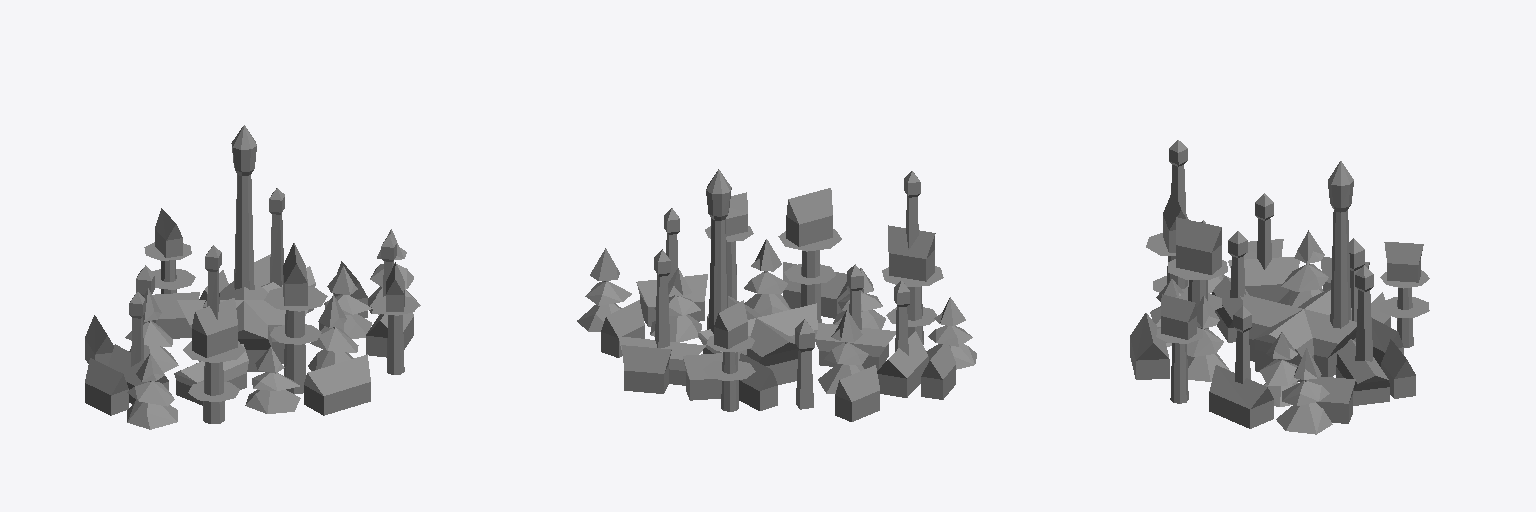
File: elvecity.obj
The picture shows the model from 3 angles: view 1: azimuth 30°, elevation 25°; view 2: azimuth 150°, elevation 25°; view 3: azimuth 270°, elevation 25°; orthographic projection.
Visible parts, largest first — view 1: elf_flet_house, trees01, elf_house_big, elf_house_ground01, elf_house_ground02, trees04, tower, elf_house_ground, tower_simple, tower_simple02, tower_simple01; view 2: elf_flet_house, elf_house_big, trees01, elf_house_ground02, elf_house_ground, elf_house_ground01, trees04, tower, tower_simple02, tower_simple01, tower_simple; view 3: elf_flet_house, elf_house_big, elf_house_ground01, trees01, tower, trees04, elf_house_ground, tower_simple01, tower_simple, elf_house_ground02, tower_simple02.
Part boxes in pixels (x1,y1,x2,y2): elf_flet_house: (144, 208, 419, 423); trees01: (125, 266, 372, 413); elf_house_big: (174, 266, 315, 405); elf_house_ground01: (108, 312, 413, 415); elf_house_ground02: (85, 254, 270, 415); trees04: (127, 229, 420, 429); tower: (231, 125, 256, 289); elf_house_ground: (85, 261, 367, 365); tower_simple: (129, 235, 396, 366); tower_simple02: (136, 245, 221, 324); tower_simple01: (203, 188, 284, 307); elf_flet_house: (703, 188, 943, 411); elf_house_big: (618, 296, 895, 385); trees01: (650, 239, 885, 393); elf_house_ground02: (621, 340, 955, 410); elf_house_ground: (601, 300, 879, 421); elf_house_ground01: (636, 262, 928, 397); trees04: (577, 248, 976, 369); tower: (706, 169, 731, 333); tower_simple02: (795, 171, 920, 409); tower_simple01: (654, 249, 863, 347); tower_simple: (664, 208, 909, 355); elf_flet_house: (1146, 195, 1429, 403); elf_house_big: (1212, 276, 1389, 405); elf_house_ground01: (1130, 257, 1299, 428); trees01: (1150, 230, 1328, 406); tower: (1328, 161, 1353, 328); trees04: (1201, 220, 1332, 434); elf_house_ground: (1307, 257, 1403, 423); tower_simple01: (1228, 231, 1373, 361); tower_simple: (1233, 193, 1273, 383); elf_house_ground02: (1244, 239, 1415, 398); tower_simple02: (1169, 140, 1364, 321).
Size of the model in its own units: 1.29 by 0.7444 by 0.9664.